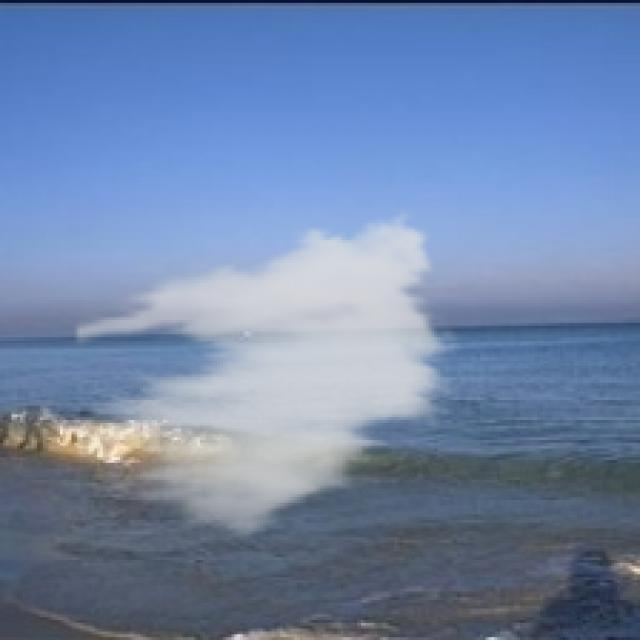Smoke: (74, 203, 463, 546)
